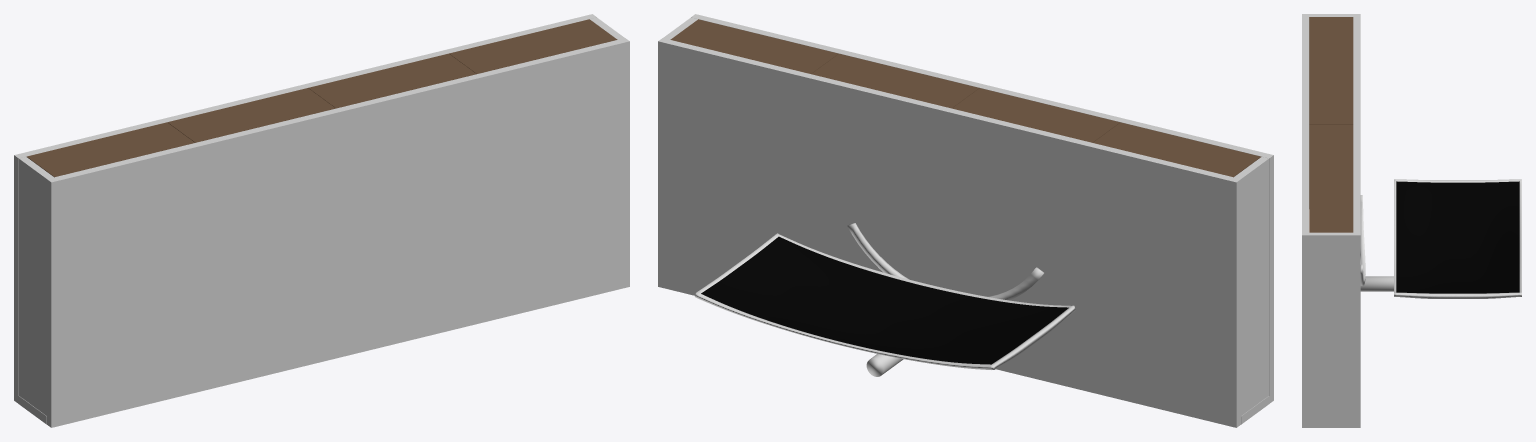
The model's file is background.glb.
3 renders of one model, left to right at view 1: azimuth 30°, elevation 25°; view 2: azimuth 150°, elevation 25°; view 3: azimuth 270°, elevation 25°, orthographic. The views are drawn at different scales.
Parts seen in each view (by area): view 1: table_surface_mesh.001, table_surface_mesh.004, table_surface_mesh, drawer_surface.005, drawer_surface.006, drawer_surface.015, drawer_surface.016; view 2: table_surface_mesh, screen_mesh.001, table_surface_mesh.004, table_surface_mesh.001, drawer_surface.005, drawer_surface.015, drawer_surface.006, drawer_surface.016, screen_mesh, bottom_mesh; view 3: screen_mesh.001, table_surface_mesh.003, table_surface_mesh, table_surface_mesh.001, drawer_surface.016, drawer_surface.005, drawer_surface.006, drawer_surface.015, screen_mesh, stand_mesh, bottom_mesh, table_surface_mesh.004.
Part boxes in pixels (x1=…): table_surface_mesh.001: x1=47, y1=38, x2=629, y2=427; table_surface_mesh.004: x1=19, y1=157, x2=53, y2=415; table_surface_mesh: x1=14, y1=14, x2=596, y2=403; drawer_surface.005: x1=27, y1=122, x2=194, y2=177; drawer_surface.006: x1=167, y1=88, x2=335, y2=142; drawer_surface.015: x1=308, y1=53, x2=476, y2=108; drawer_surface.016: x1=449, y1=19, x2=617, y2=73; table_surface_mesh: x1=658, y1=38, x2=1240, y2=427; screen_mesh.001: x1=701, y1=236, x2=1068, y2=364; table_surface_mesh.004: x1=1234, y1=157, x2=1268, y2=415; table_surface_mesh.001: x1=691, y1=14, x2=1273, y2=403; drawer_surface.005: x1=1093, y1=122, x2=1260, y2=177; drawer_surface.015: x1=811, y1=53, x2=979, y2=108; drawer_surface.006: x1=952, y1=88, x2=1119, y2=142; drawer_surface.016: x1=670, y1=19, x2=838, y2=73; screen_mesh: x1=694, y1=233, x2=1075, y2=369; bottom_mesh: x1=847, y1=223, x2=1043, y2=300; screen_mesh.001: x1=1396, y1=181, x2=1519, y2=293; table_surface_mesh.003: x1=1309, y1=232, x2=1353, y2=427; table_surface_mesh: x1=1353, y1=14, x2=1360, y2=427; table_surface_mesh.001: x1=1302, y1=14, x2=1308, y2=427; drawer_surface.016: x1=1309, y1=178, x2=1353, y2=232; drawer_surface.005: x1=1309, y1=17, x2=1353, y2=70; drawer_surface.006: x1=1309, y1=71, x2=1353, y2=124; drawer_surface.015: x1=1309, y1=125, x2=1353, y2=178; screen_mesh: x1=1394, y1=179, x2=1521, y2=298; stand_mesh: x1=1360, y1=276, x2=1393, y2=291; bottom_mesh: x1=1360, y1=195, x2=1365, y2=285; table_surface_mesh.004: x1=1309, y1=14, x2=1353, y2=208.
Bounding box in the file's own units: 7.35 × 2.98 × 3.09.
